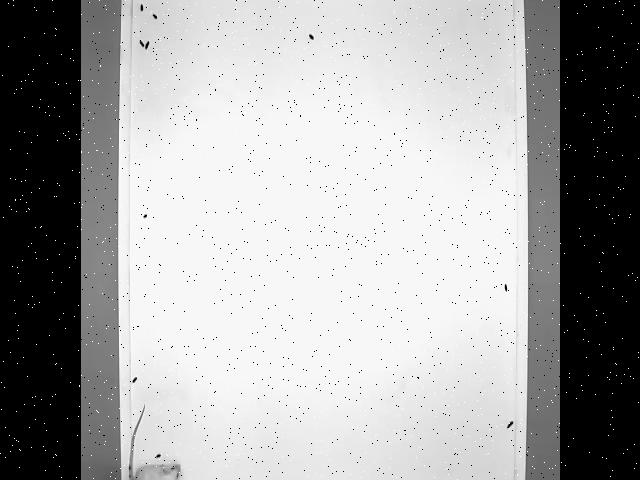Tikus: (127, 404, 183, 480)
